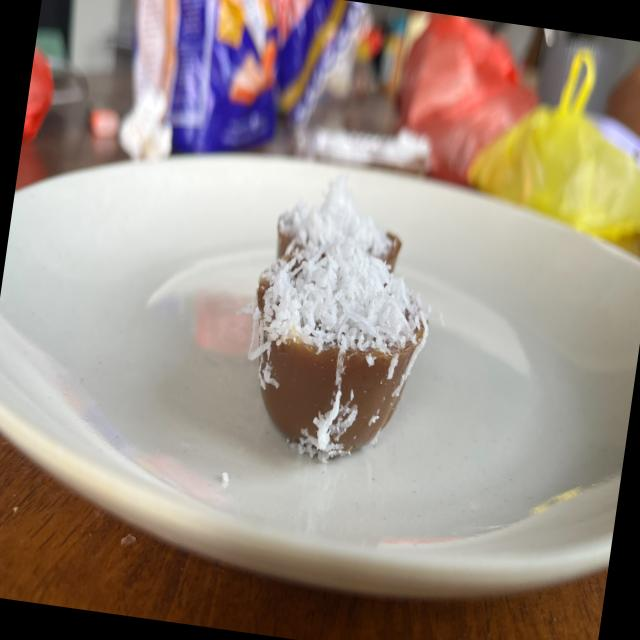Kuih lompang: (249, 238, 428, 462), (277, 177, 401, 272)
